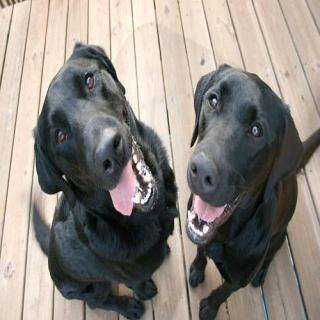dog: (24, 41, 162, 232), (173, 44, 299, 252)
nose: (92, 127, 129, 174), (184, 150, 221, 196)
